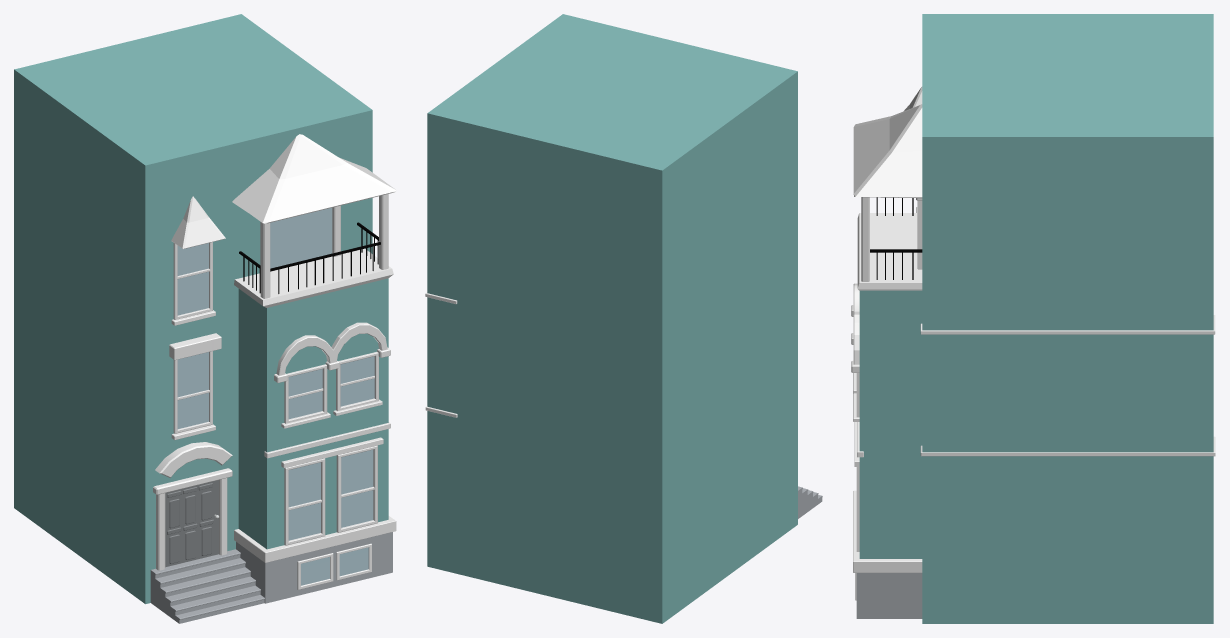
Rendered from BolunHouseUVd003.fbx.
3 renders of one model, left to right at view 1: azimuth 30°, elevation 25°; view 2: azimuth 150°, elevation 25°; view 3: azimuth 270°, elevation 25°, orthographic. The views are drawn at different scales.
Parts seen in each view (by area): view 1: polySurface198; view 2: polySurface198; view 3: polySurface198.
Part boxes in pixels (x1,y1,x2,y2): polySurface198: [14, 14, 396, 623]; polySurface198: [425, 14, 822, 623]; polySurface198: [851, 14, 1215, 623].
Bounding box in the file's own units: 5.03 × 9.22 × 6.25.
